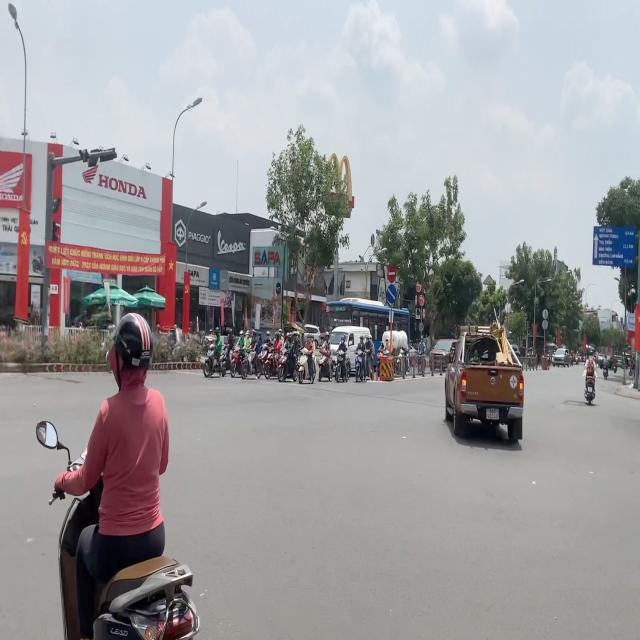Cam nguoc chieu: (387, 262, 397, 284)
Hieu lenh: (386, 283, 397, 304)
